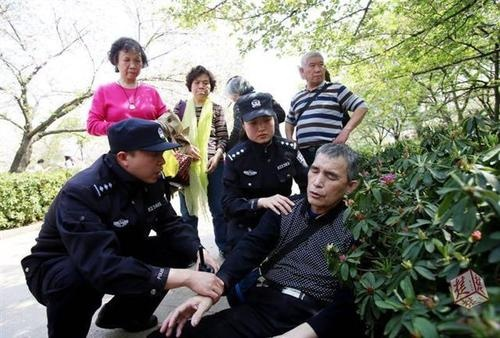falling: (121, 135, 379, 338)
